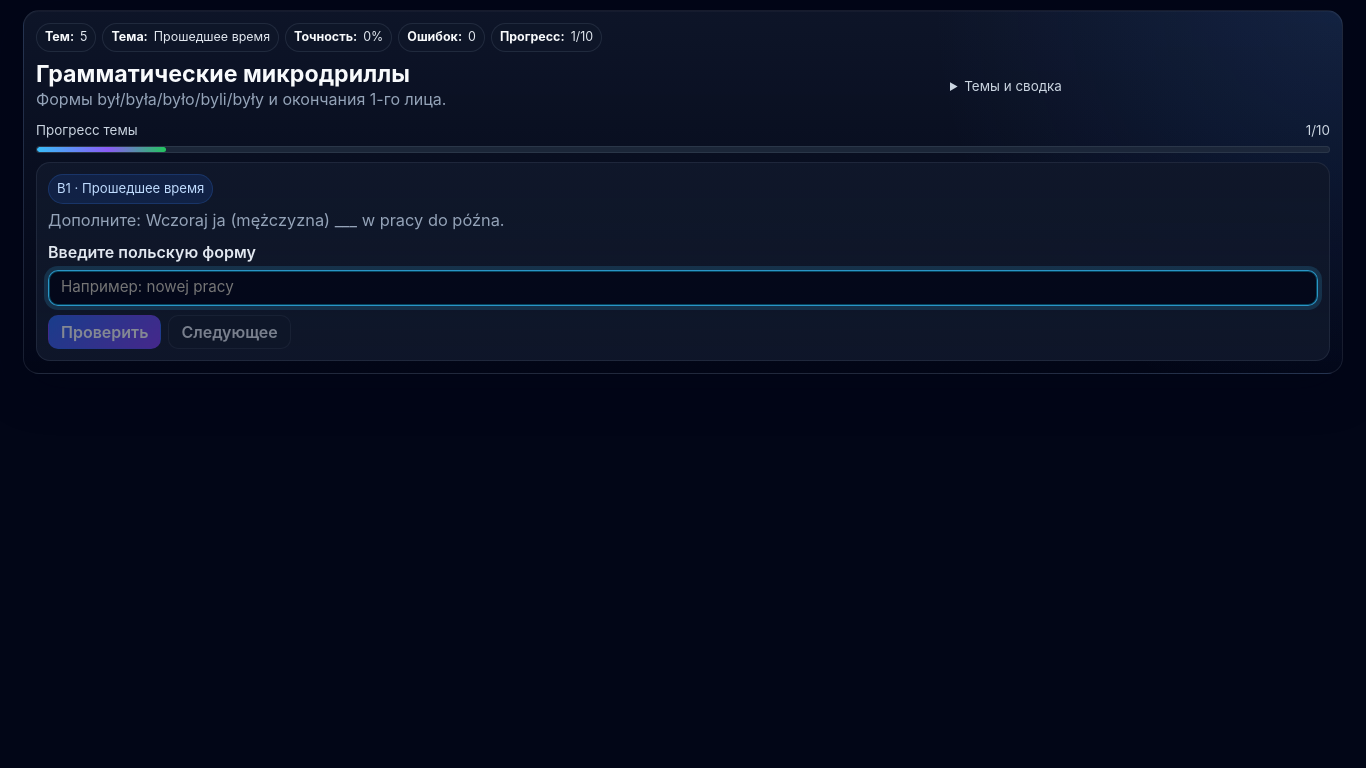
Test: GrammarDrillScreen retry-after-error UX › allows correcting a wrong answer and checking again in the same exercise
The image size is (1366, 768).
Type "неверный ответ" into the field labelled "Введите польскую форму" at (683, 288), box left=48, top=270, right=1318, bottom=306
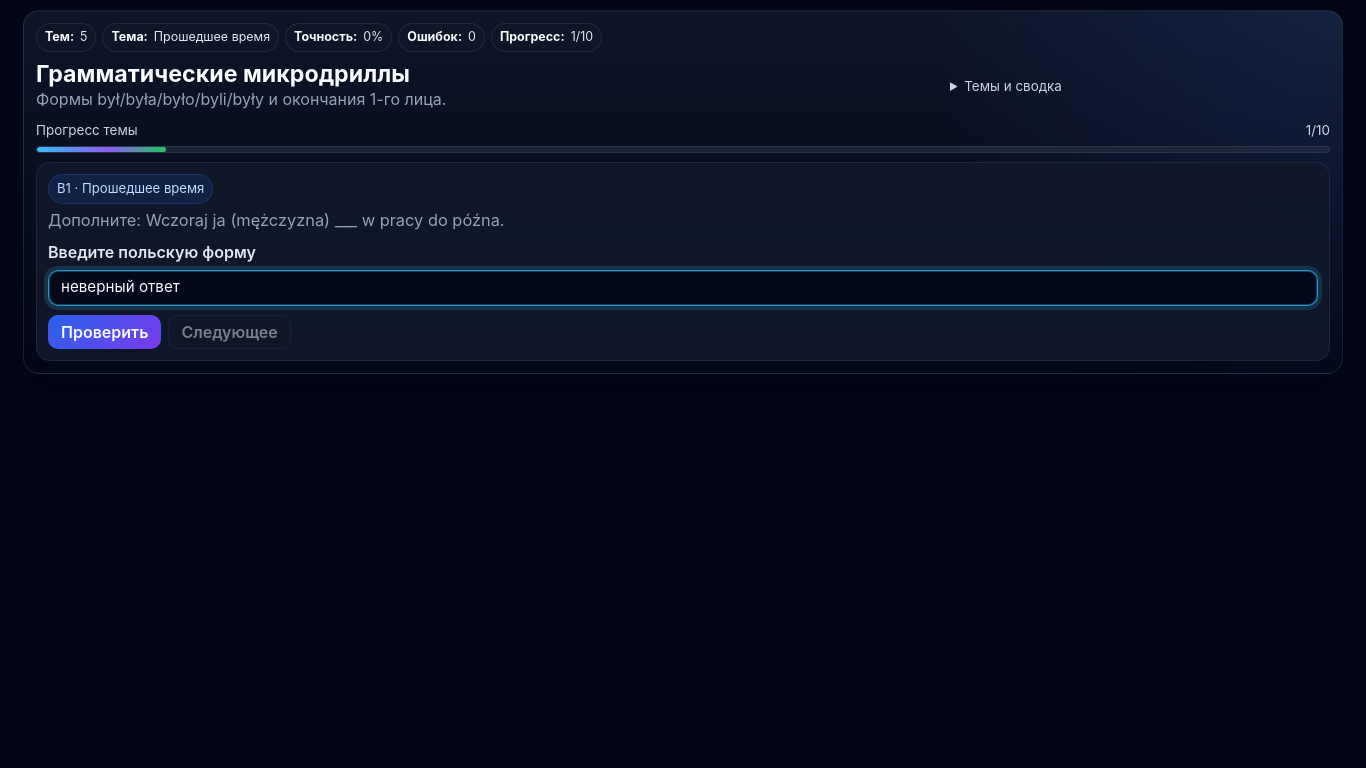
Click the button "Проверить" at (105, 332), box left=48, top=314, right=161, bottom=348
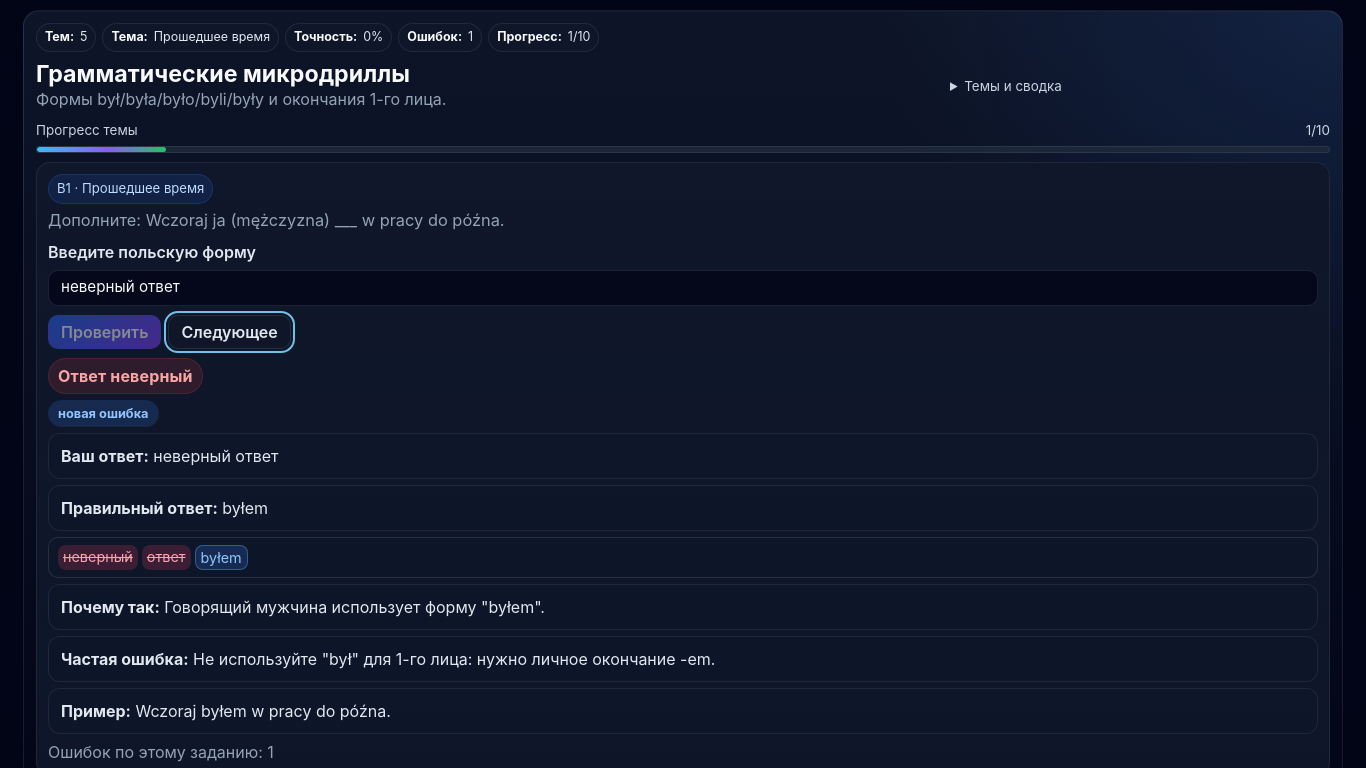
Now the text "Ответ неверный" is shown, box left=48, top=358, right=203, bottom=394
Now the text "новая ошибка" is shown, box left=48, top=400, right=158, bottom=427
Now the text "Ваш ответ:" is shown, box left=61, top=446, right=149, bottom=466
Replace the text in the field labelled "Введите польскую форму" with "byłem" at (683, 288), box left=48, top=270, right=1318, bottom=306
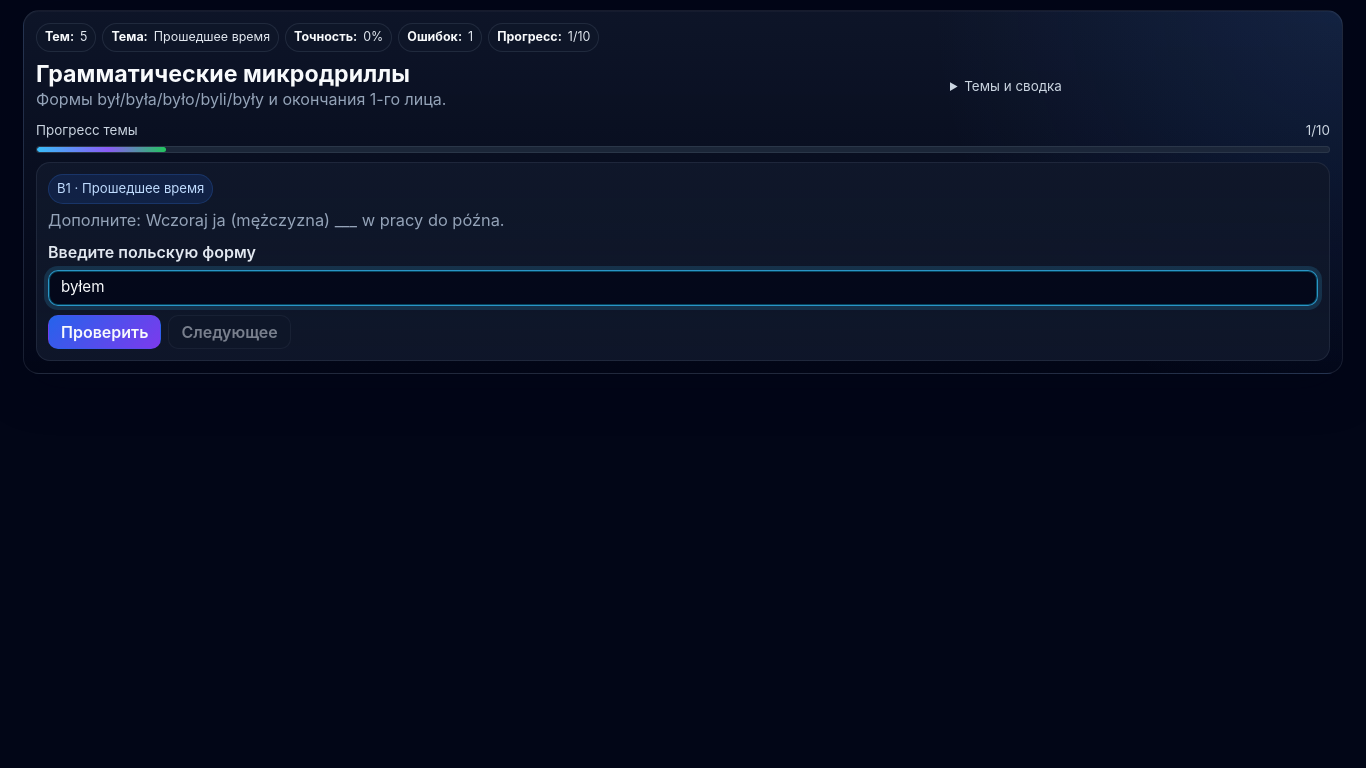
Expected: the text "Ответ неверный" is not shown
Now the button "Проверить" is enabled
Click the button "Проверить" at (105, 332), box left=48, top=314, right=161, bottom=348
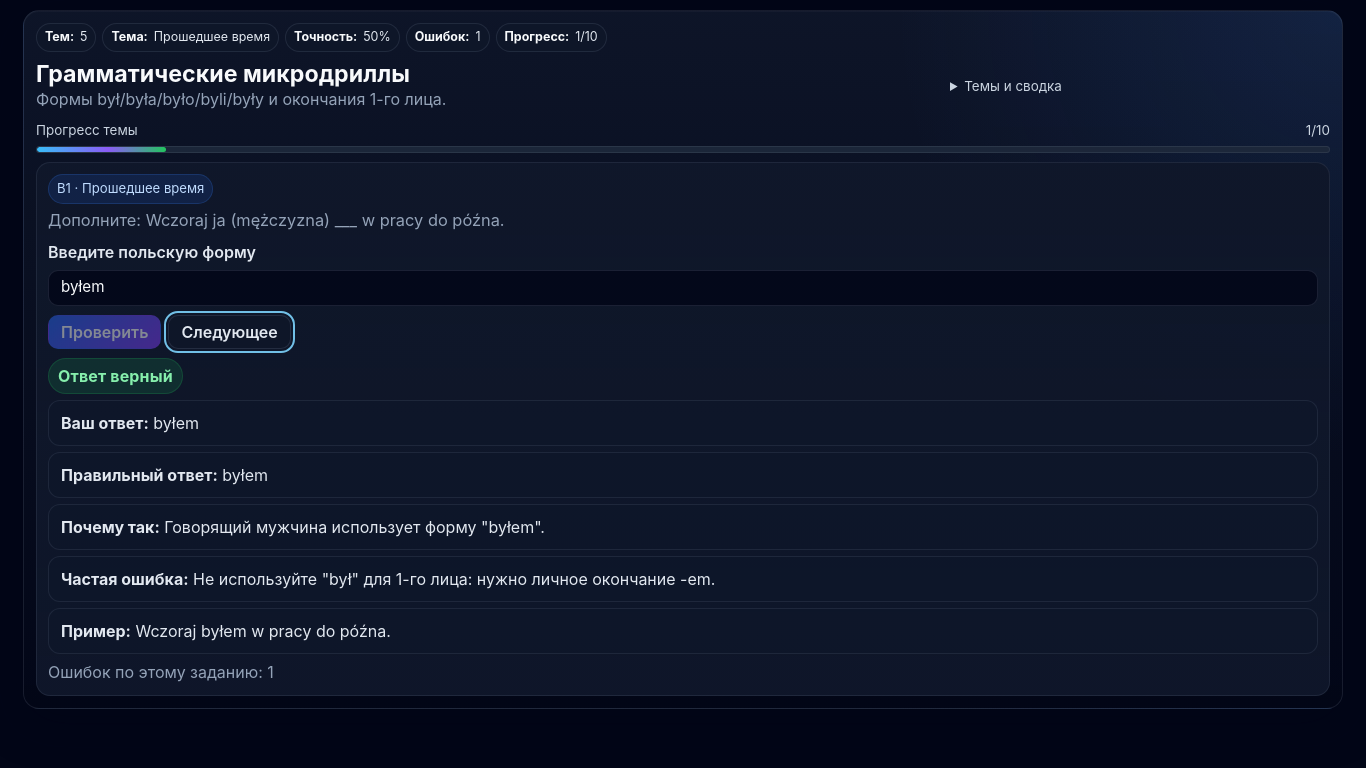
Expected: the text "Ответ неверный" is not shown
Now the text "Ответ верный" is shown, box left=48, top=358, right=183, bottom=394
